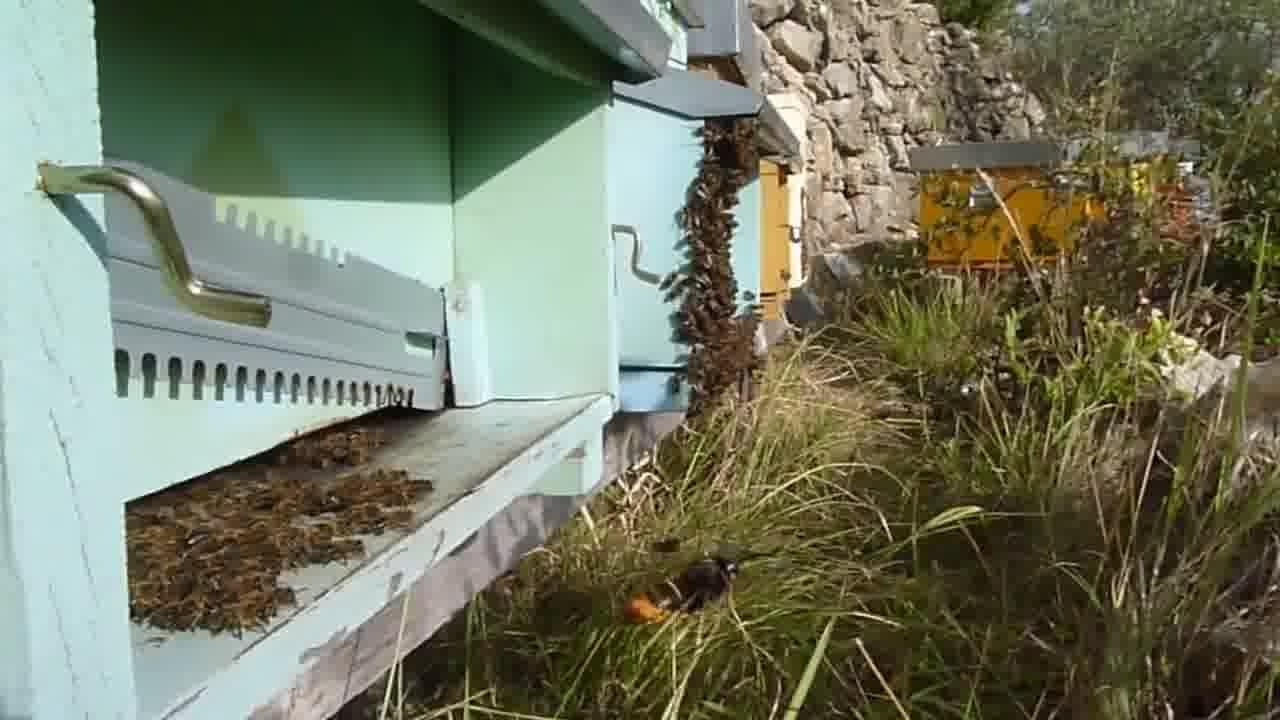bee: (123, 509, 292, 634), (295, 472, 432, 563), (652, 267, 745, 337), (677, 183, 745, 268), (681, 113, 762, 182), (673, 342, 754, 400), (183, 479, 288, 509), (297, 430, 368, 473)
hornet: (614, 536, 752, 630)
